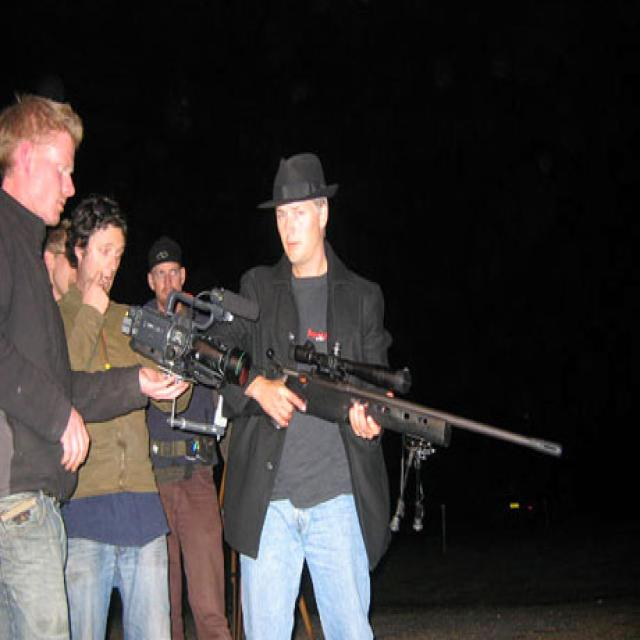rifle: (257, 340, 570, 541)
